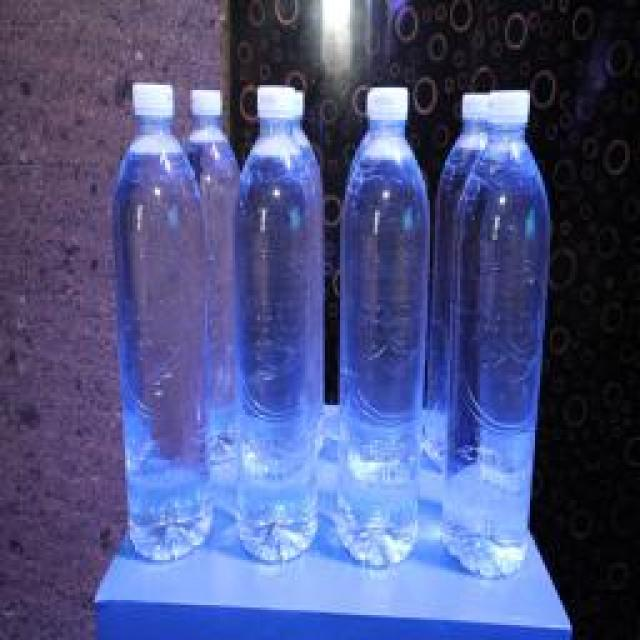bottle: (108, 79, 220, 569), (447, 90, 545, 578), (342, 85, 428, 573), (239, 85, 324, 555)
